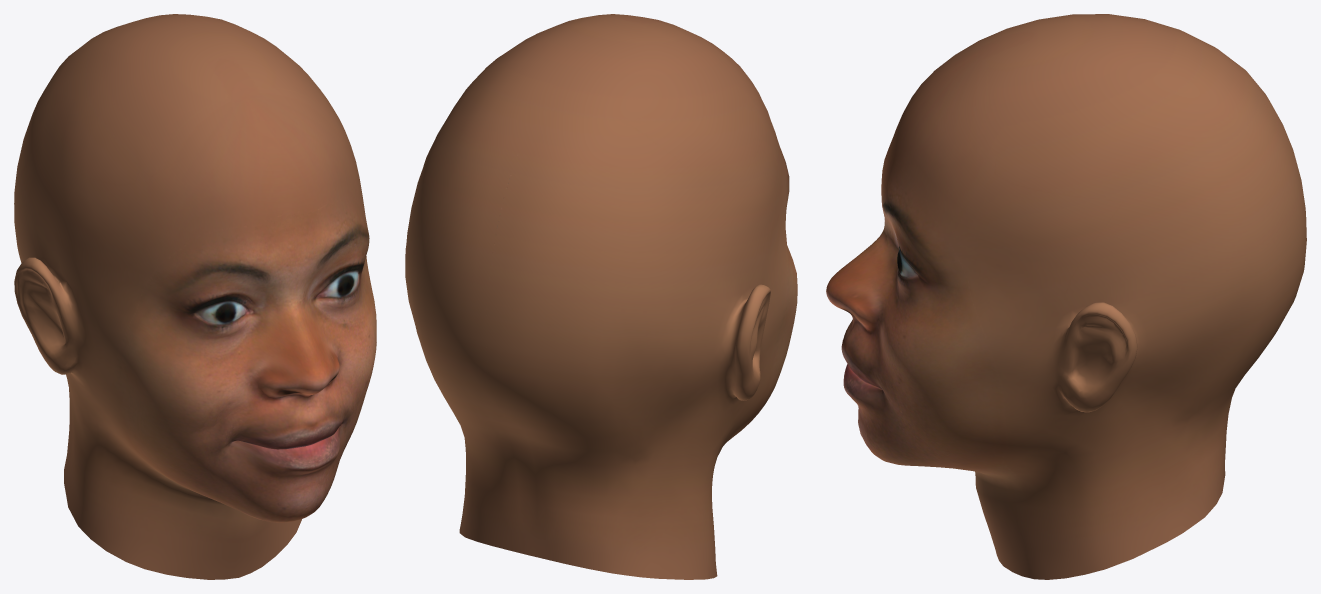
The model's file is v332_obj_ModifierDimpler(AU14)Right.obj.
3 views of the same model, side by side, from view 1: azimuth 30°, elevation 25°; view 2: azimuth 150°, elevation 25°; view 3: azimuth 270°, elevation 25° (orthographic). The views are drawn at different scales.
Visible parts, largest first — view 1: HeadHires; view 2: HeadHires; view 3: HeadHires.
Boxes of the visible parts, box(x1,y1,x2,y2) form: HeadHires: box(14, 14, 376, 579); HeadHires: box(405, 14, 797, 579); HeadHires: box(826, 14, 1306, 579).
Size of the model in its own units: 187 by 282 by 233.
